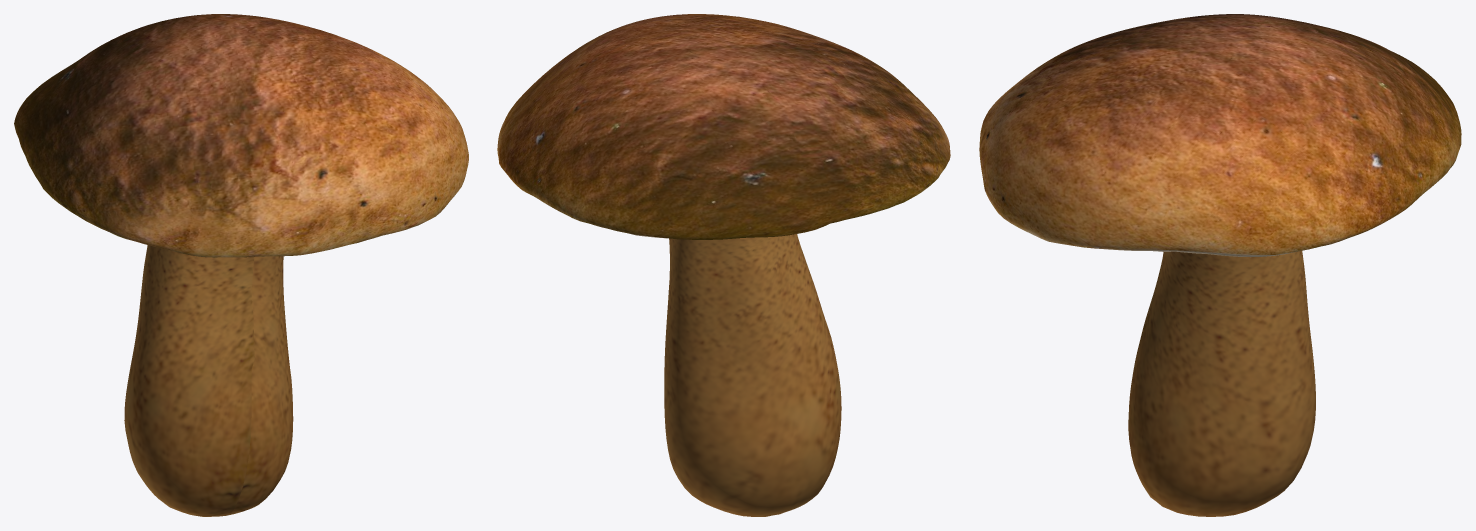
Rendered from SENE_42.fbx.
3 views of the same model, side by side, from view 1: azimuth 30°, elevation 25°; view 2: azimuth 150°, elevation 25°; view 3: azimuth 270°, elevation 25° (orthographic). The views are drawn at different scales.
Parts seen in each view (by area): view 1: SENE_42; view 2: SENE_42; view 3: SENE_42.
Part boxes in pixels (<box>): SENE_42: <box>14,14,468,516</box>; SENE_42: <box>497,14,950,516</box>; SENE_42: <box>979,14,1461,516</box>.
Bounding box in the file's own units: 72.67 × 80.23 × 73.61.
1 material, 1 textured.
